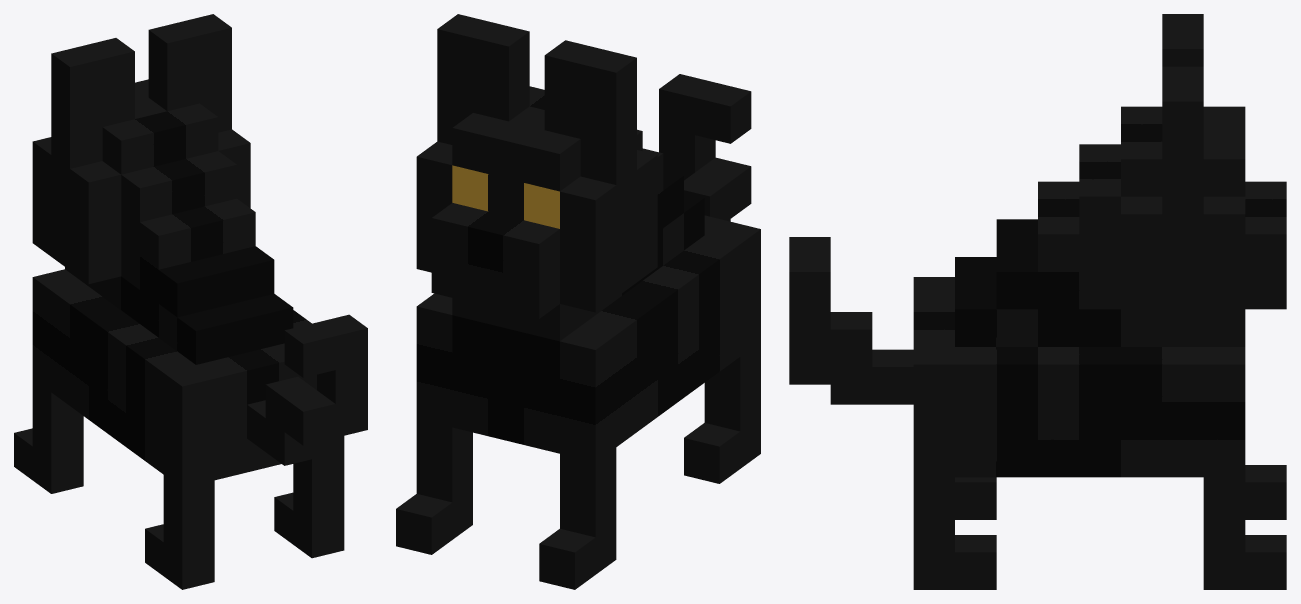
The model's file is cat_dog_thingy.dae.
The picture shows the model from 3 angles, left to right: view 1: azimuth 30°, elevation 25°; view 2: azimuth 150°, elevation 25°; view 3: azimuth 270°, elevation 25°; orthographic projection. The views are drawn at different scales.
Visible parts, largest first — view 1: cat_dog_thingy; view 2: cat_dog_thingy; view 3: cat_dog_thingy.
Boxes of the visible parts, x1,y1,x2,y2 form: cat_dog_thingy: (14,14,367,589); cat_dog_thingy: (396,14,760,589); cat_dog_thingy: (789,14,1286,589).
Size of the model in its own units: 0.5 by 1.3 by 1.2.
1 material, 1 textured.
